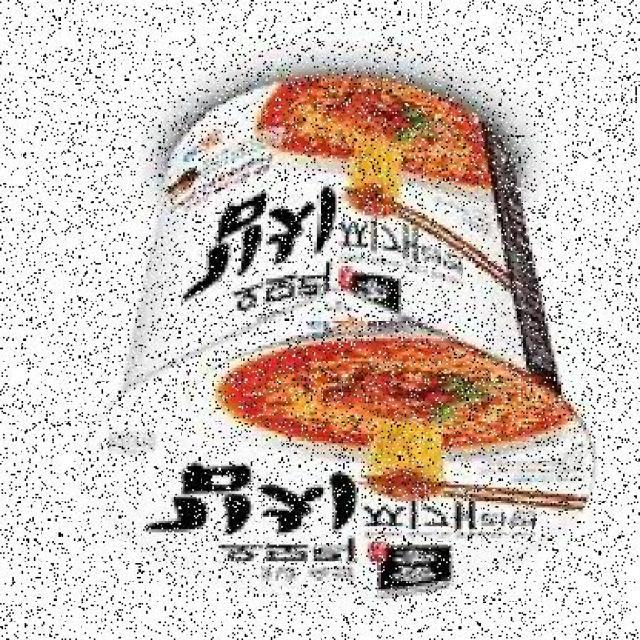Miscellaneous: (90, 80, 575, 602)
